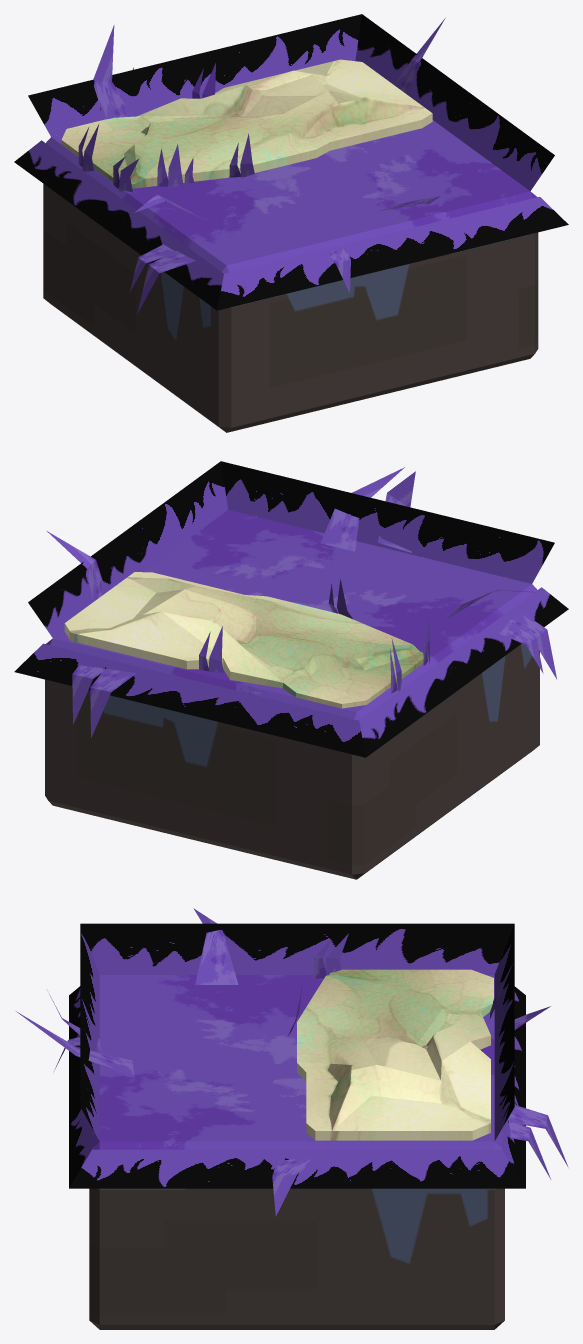
The model's file is tilegrasspurple002.glb.
The picture shows the model from 3 angles, top to bottom: view 1: azimuth 30°, elevation 25°; view 2: azimuth 150°, elevation 25°; view 3: azimuth 270°, elevation 25°; orthographic projection. The views are drawn at different scales.
Parts seen in each view (by area): view 1: tilegrasspurple002; view 2: tilegrasspurple002; view 3: tilegrasspurple002.
Part boxes in pixels (x1,y1,x2,y2): tilegrasspurple002: (14, 14, 568, 432); tilegrasspurple002: (14, 461, 568, 879); tilegrasspurple002: (16, 908, 568, 1329).
Bounding box in the file's own units: 1.29 × 0.7481 × 1.34.
Materials: 2 (2 with a texture image).
